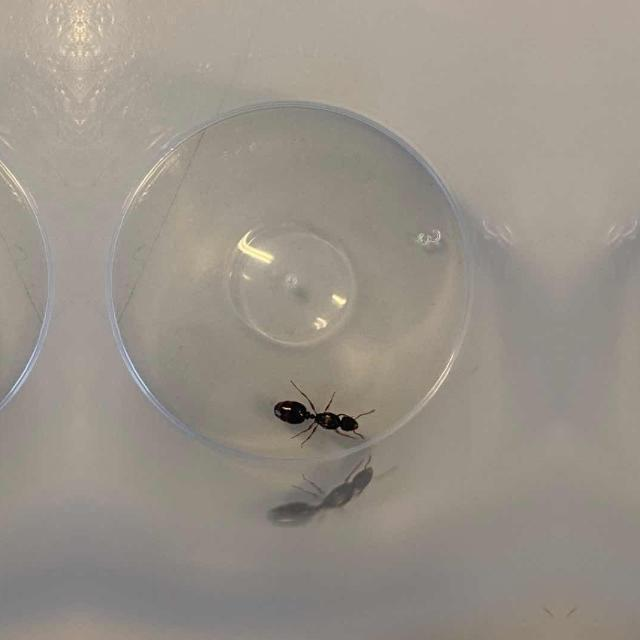Tetramorium: (264, 376, 374, 450)
